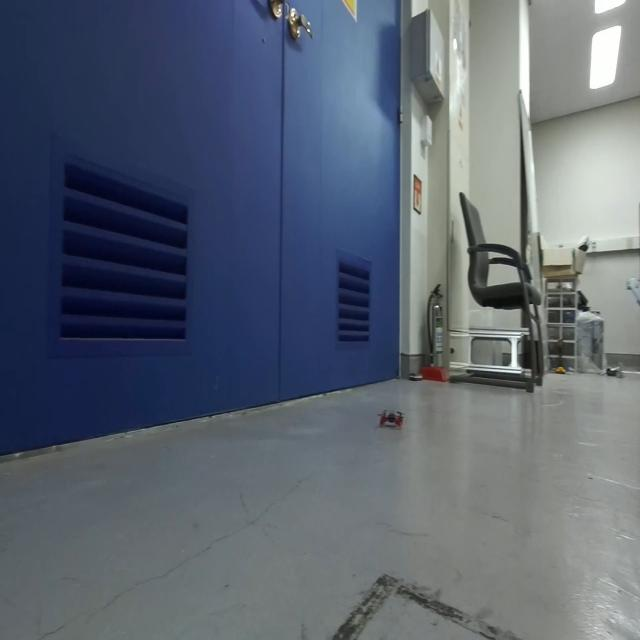crazyflie: (377, 406, 405, 434)
